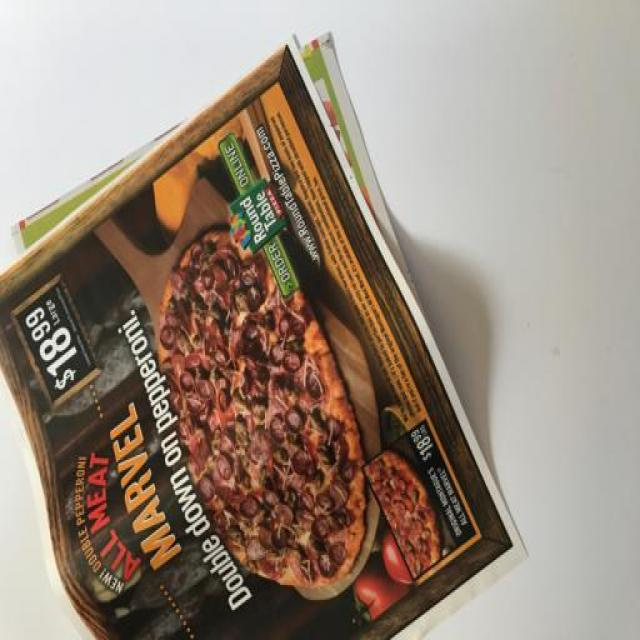paper: (3, 37, 527, 640)
